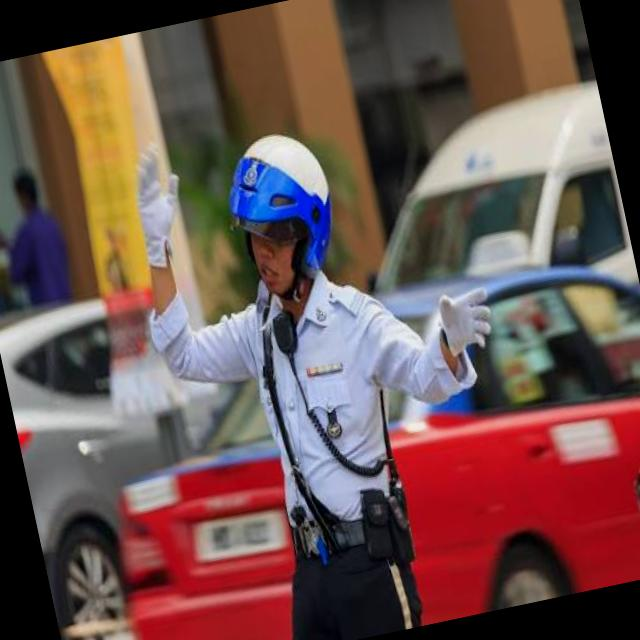Person: (102, 59, 559, 640)
